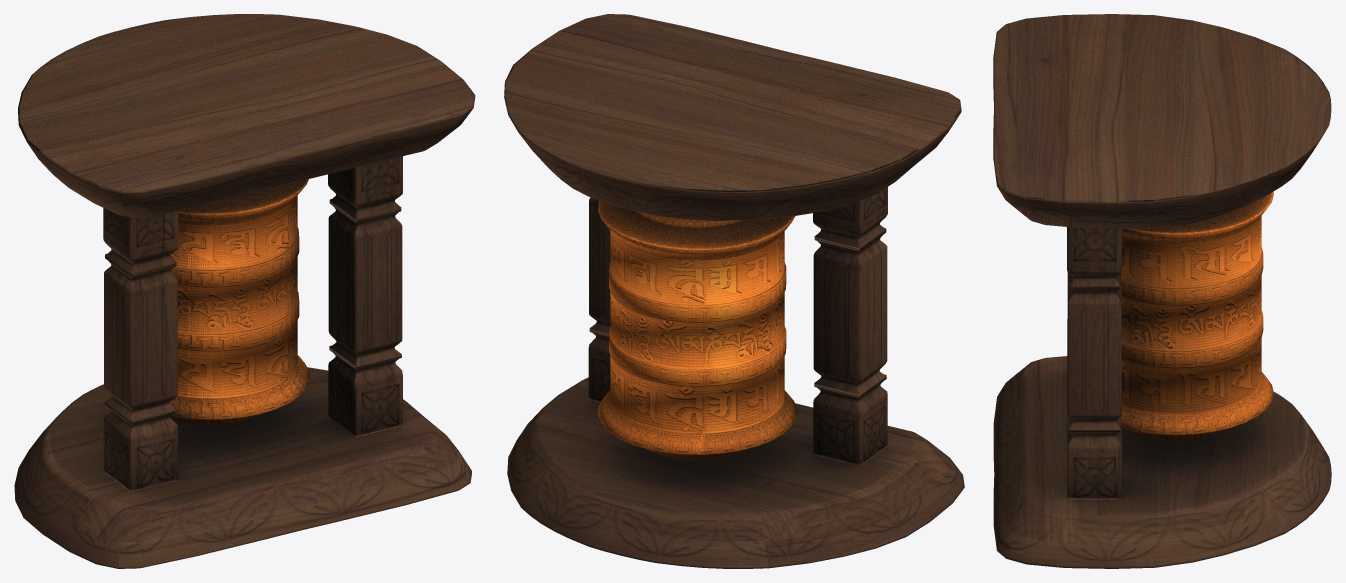
Rendered from prayerwheel.dae.
3 renders of one model, left to right at view 1: azimuth 30°, elevation 25°; view 2: azimuth 150°, elevation 25°; view 3: azimuth 270°, elevation 25°, orthographic. The views are drawn at different scales.
Parts seen in each view (by area): view 1: Plane_003, Cylinder; view 2: Plane_003, Cylinder; view 3: Plane_003, Cylinder.
Boxes of the visible parts, box(x1,y1,x2,y2) form: Plane_003: box(14, 14, 475, 568); Cylinder: box(170, 179, 309, 426); Plane_003: box(504, 14, 964, 568); Cylinder: box(598, 201, 797, 461); Plane_003: box(993, 14, 1331, 568); Cylinder: box(1121, 192, 1273, 441).
Size of the model in its own units: 13.79 by 10.37 by 12.5.
